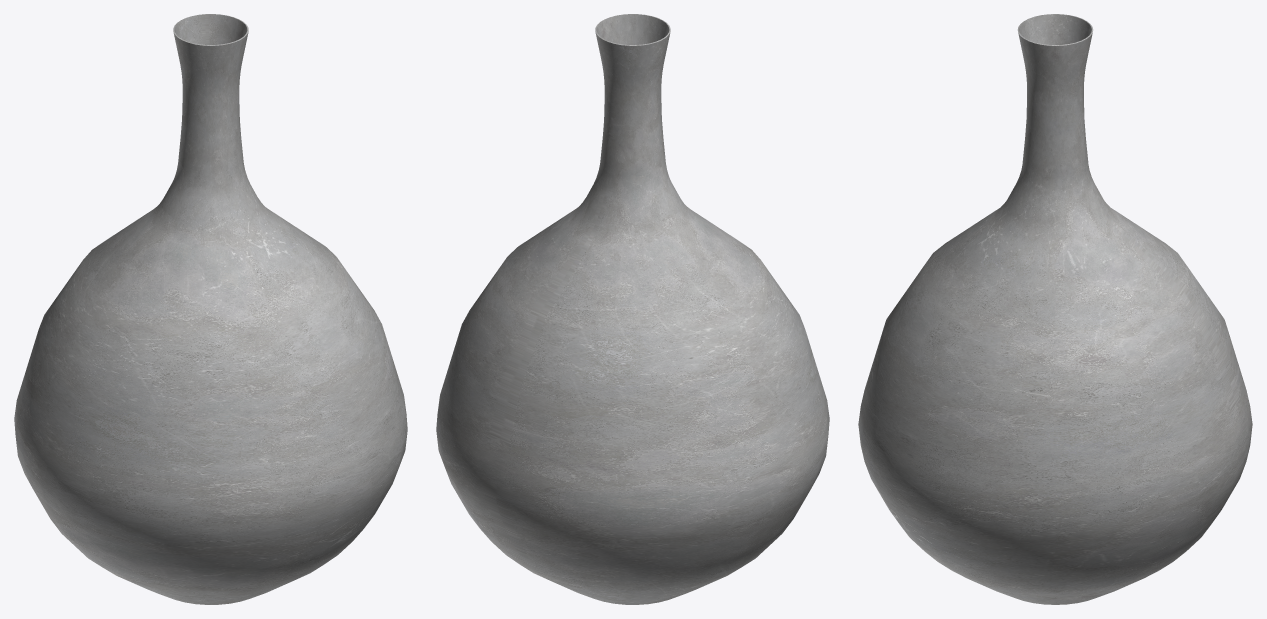
File: vase.fbx
3 renders of one model, left to right at view 1: azimuth 30°, elevation 25°; view 2: azimuth 150°, elevation 25°; view 3: azimuth 270°, elevation 25°, orthographic.
Visible parts, largest first — view 1: vase; view 2: vase; view 3: vase.
Boxes of the visible parts, box(x1,y1,x2,y2) form: vase: box(14, 14, 407, 604); vase: box(436, 14, 829, 604); vase: box(858, 14, 1252, 604).
Size of the model in its own units: 276 by 425 by 276.
